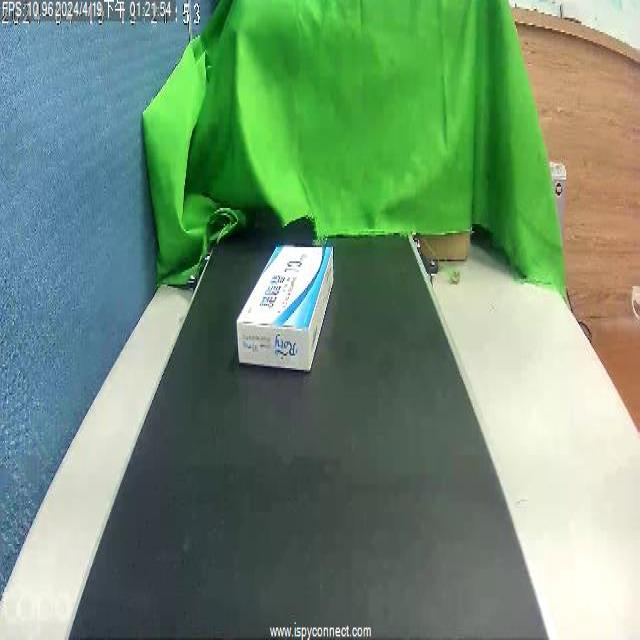box: (242, 232, 338, 382)
